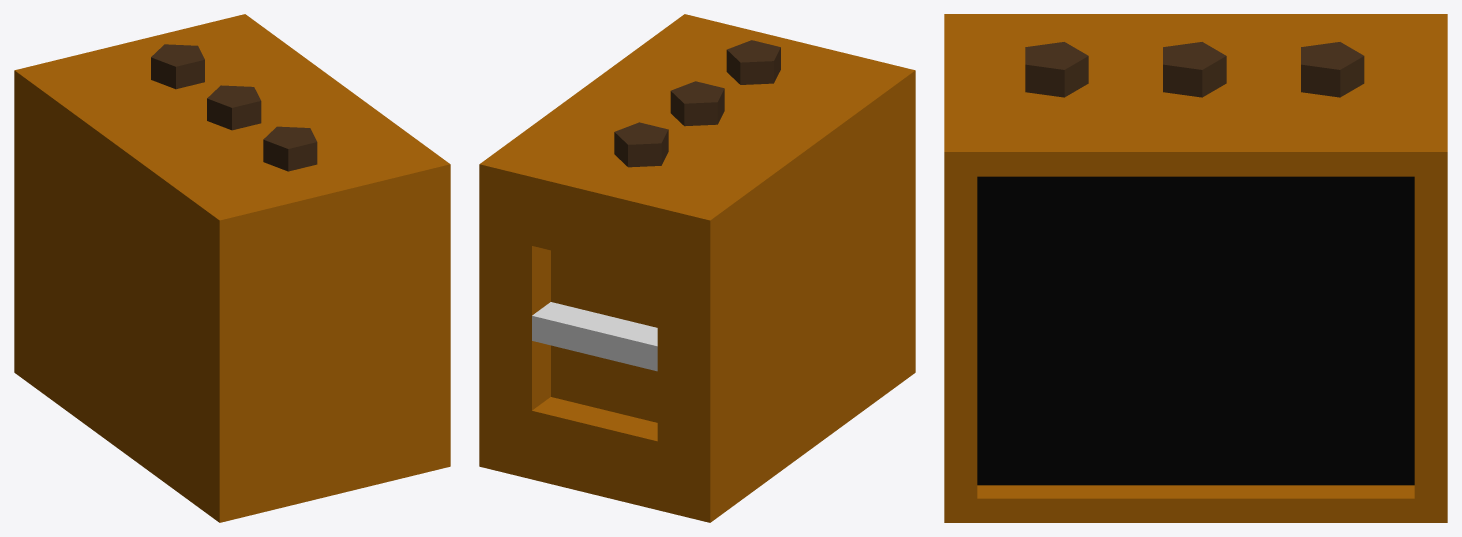
The model's file is Amplifier 1.fbx.
3 renders of one model, left to right at view 1: azimuth 30°, elevation 25°; view 2: azimuth 150°, elevation 25°; view 3: azimuth 270°, elevation 25°, orthographic. The views are drawn at different scales.
Parts seen in each view (by area): view 1: Cube, Cylinder.002, Cylinder, Cylinder.001; view 2: Cube, Cube.001, Cylinder.001, Cylinder, Cylinder.002; view 3: Cube, Cylinder, Cylinder.002, Cylinder.001.
Part boxes in pixels (x1=…): Cube: x1=14, y1=14, x2=450, y2=522; Cylinder.002: x1=207, y1=85, x2=261, y2=130; Cylinder: x1=263, y1=126, x2=317, y2=171; Cylinder.001: x1=151, y1=44, x2=204, y2=89; Cube: x1=479, y1=14, x2=915, y2=522; Cube.001: x1=532, y1=302, x2=657, y2=371; Cylinder.001: x1=614, y1=122, x2=668, y2=167; Cylinder: x1=726, y1=40, x2=780, y2=84; Cylinder.002: x1=670, y1=81, x2=724, y2=126; Cube: x1=944, y1=14, x2=1447, y2=522; Cylinder: x1=1025, y1=42, x2=1088, y2=97; Cylinder.002: x1=1163, y1=42, x2=1226, y2=97; Cylinder.001: x1=1301, y1=42, x2=1364, y2=97.
Size of the model in its own units: 119 by 159 by 183.
